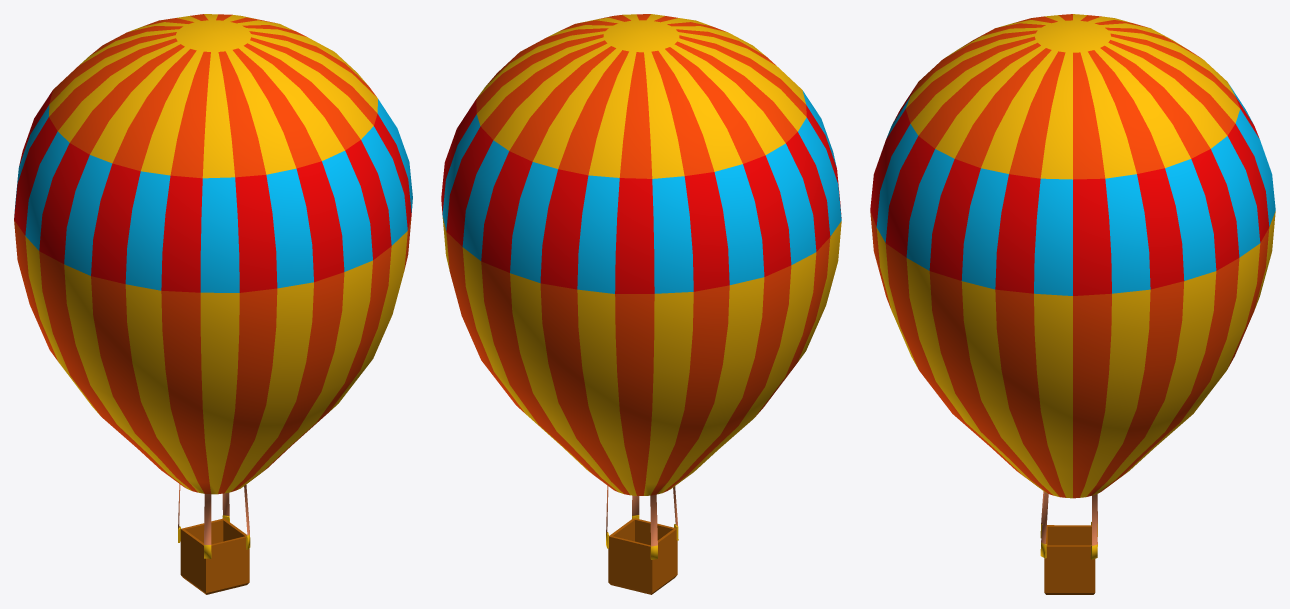
Rendered from Air Balloon.fbx.
3 renders of one model, left to right at view 1: azimuth 30°, elevation 25°; view 2: azimuth 150°, elevation 25°; view 3: azimuth 270°, elevation 25°, orthographic.
Visible parts, largest first — view 1: Sphere; view 2: Sphere; view 3: Sphere.
Part boxes in pixels (x1,y1,x2,y2): Sphere: [14, 14, 412, 594]; Sphere: [441, 14, 841, 594]; Sphere: [870, 14, 1275, 594].
Size of the model in its own units: 6226 by 9344 by 6226.
